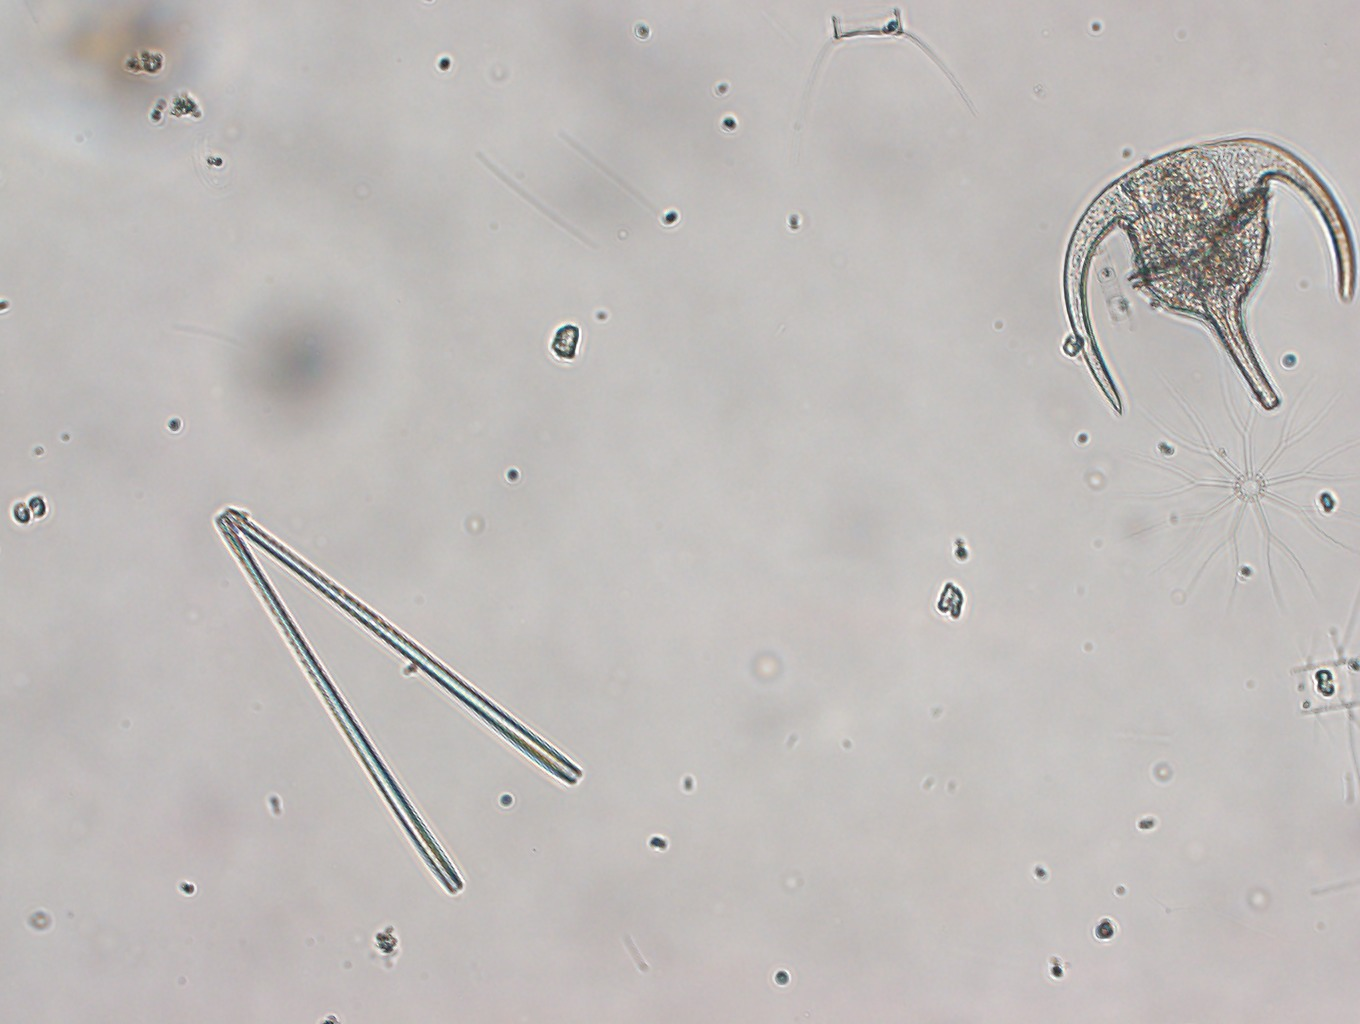bacteriastrum: (1112, 362, 1360, 617)
ceratium tripos: (1050, 130, 1360, 430)
chaetoceros: (783, 1, 980, 136), (1282, 569, 1360, 805)
thalassionema frauenfeldii: (206, 504, 589, 906)
